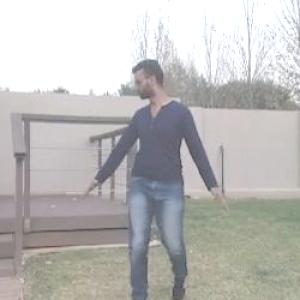land: (82, 58, 223, 299)
